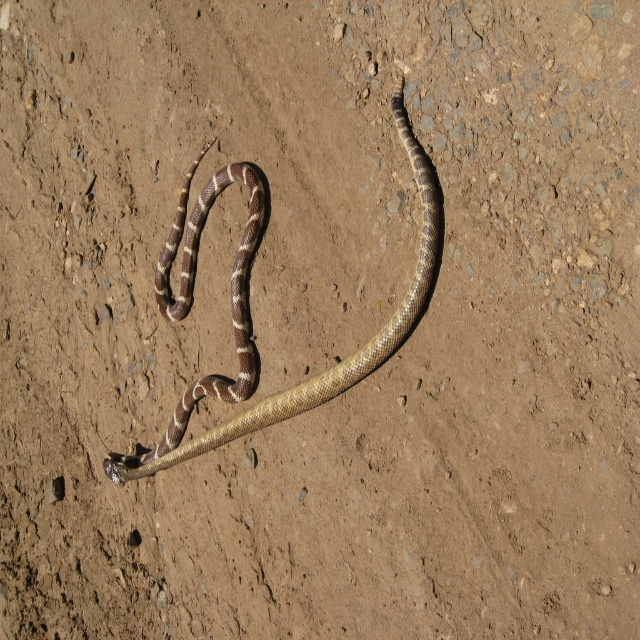Snake: (101, 74, 439, 486), (103, 137, 266, 486)
